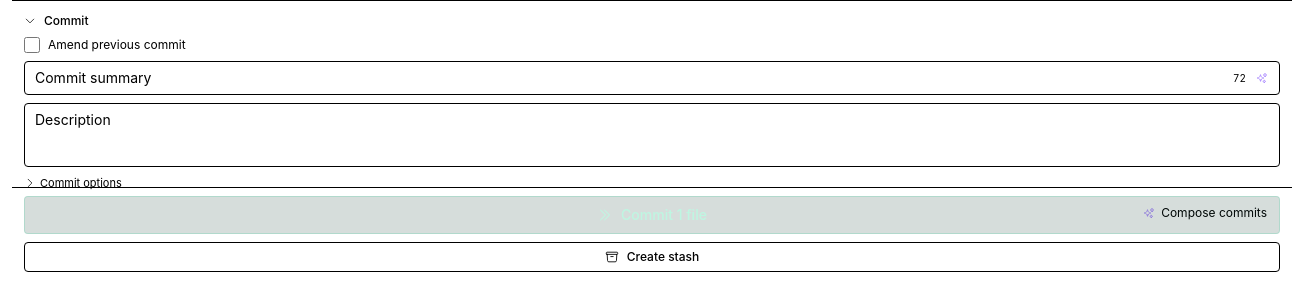
it: CommitPanel › seeds amend from HEAD when the graph tip is a newer commit on another branch
The width and height of the screenshot is (1304, 289).
Click the checkbox labelled "Amend previous commit".
click(32, 45)  # box 24,37 -> 40,53
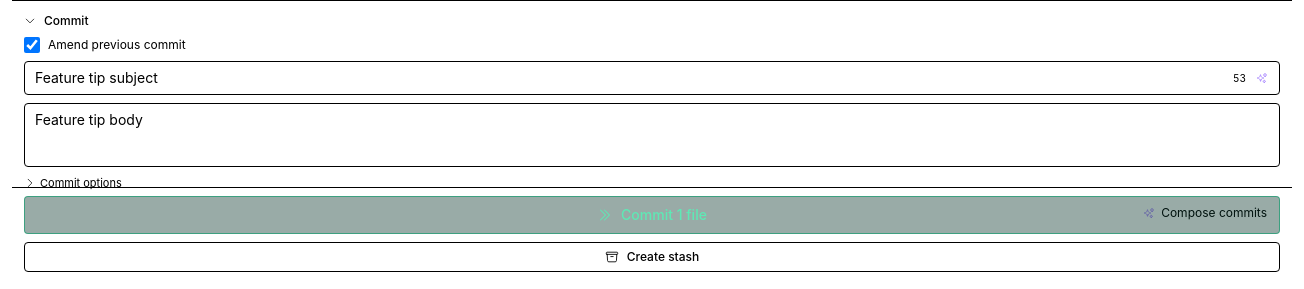
Result: the field with placeholder "Commit summary" holds "Feature tip subject" at 24,61 -> 1280,95
Result: the text box with placeholder "Description" holds "Feature tip body" at 24,103 -> 1280,167
